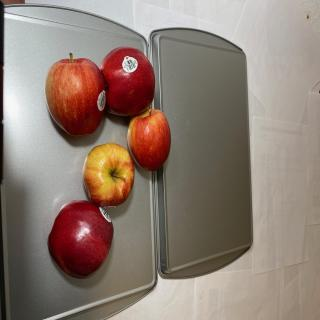Apple: (47, 200, 114, 279), (45, 52, 106, 137), (100, 46, 156, 116), (82, 142, 135, 208), (127, 108, 171, 172)
